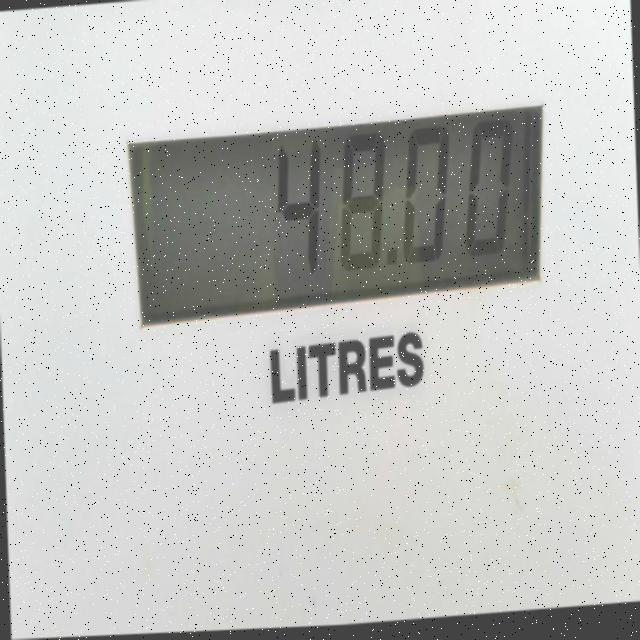.: (387, 229, 408, 289)
0: (400, 115, 456, 281), (460, 119, 513, 260)
4: (270, 146, 328, 291)
8: (330, 138, 397, 284)
